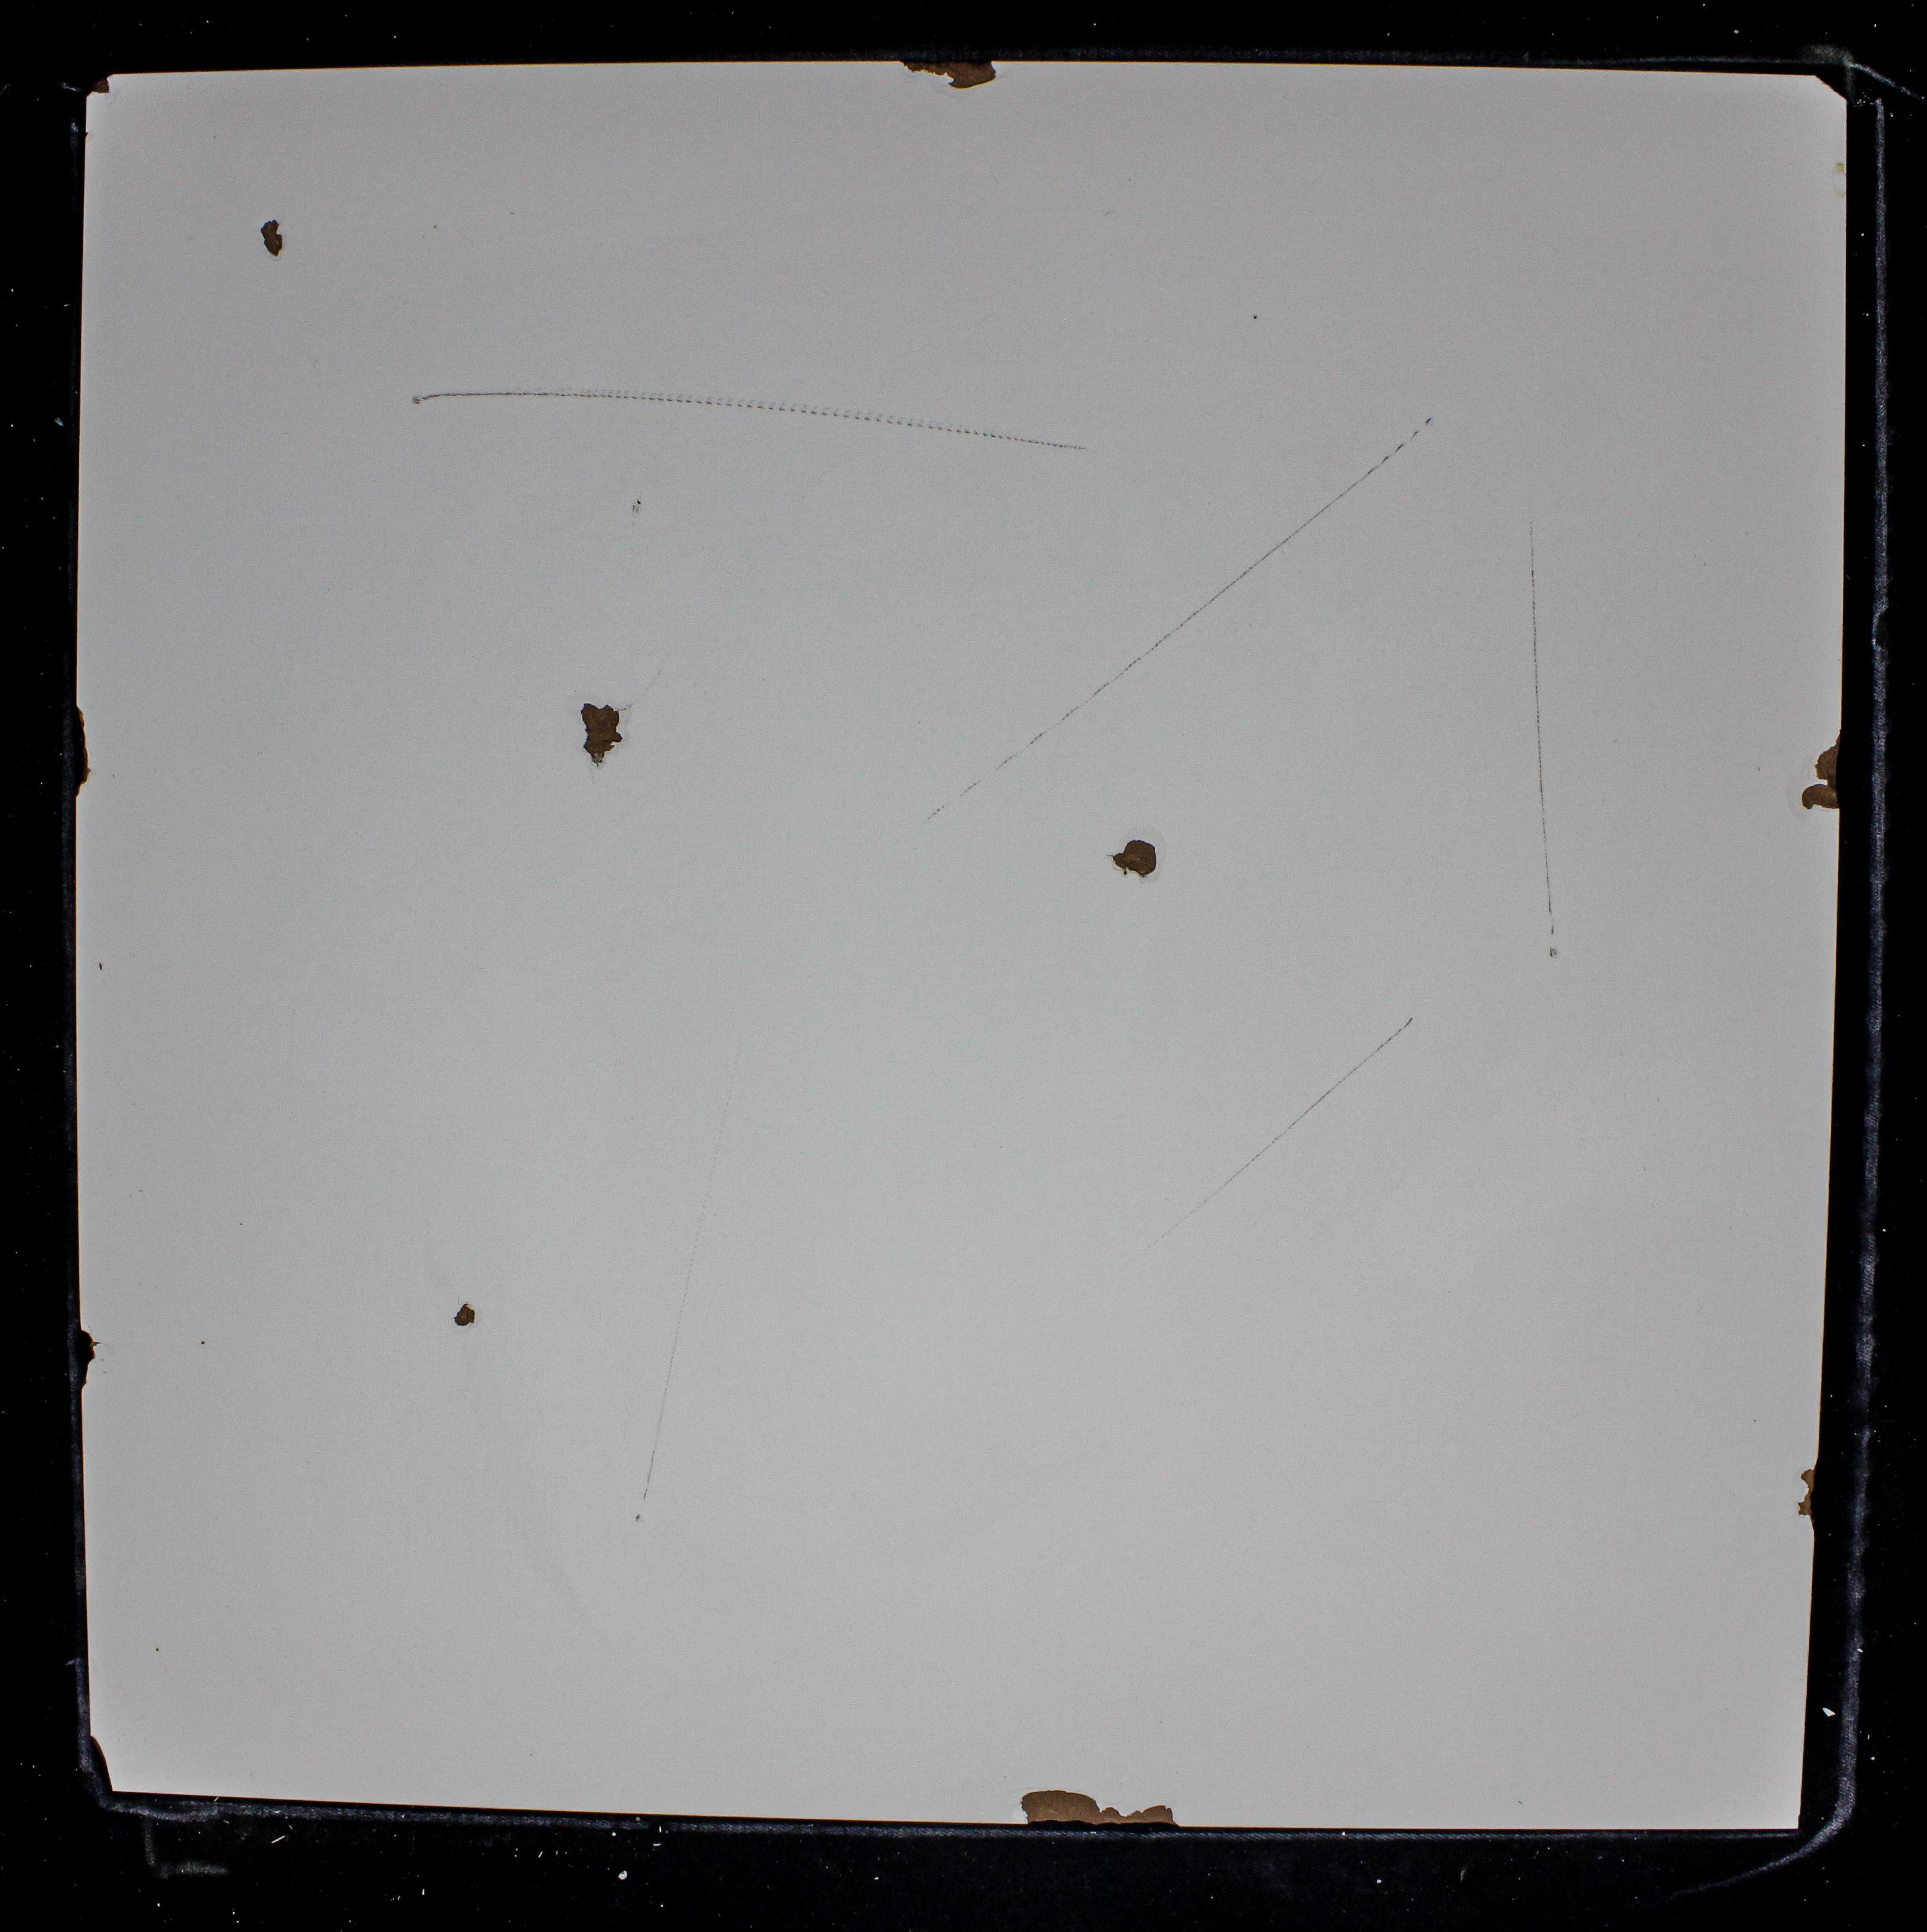edge-chipping: (1020, 1787, 1181, 1828), (896, 56, 999, 90), (79, 1323, 102, 1392), (74, 700, 90, 796), (90, 1734, 115, 1793), (1796, 1468, 1819, 1530), (1800, 782, 1846, 812), (1816, 734, 1846, 778), (1812, 72, 1849, 102), (86, 72, 111, 95)
hole: (577, 697, 626, 766), (1112, 840, 1158, 879), (259, 217, 286, 258), (455, 1302, 476, 1329)
line: (921, 609, 1205, 817), (1188, 1013, 1417, 1212), (411, 388, 1075, 453), (1207, 415, 1433, 602), (1525, 559, 1571, 953), (639, 1267, 694, 1498)
